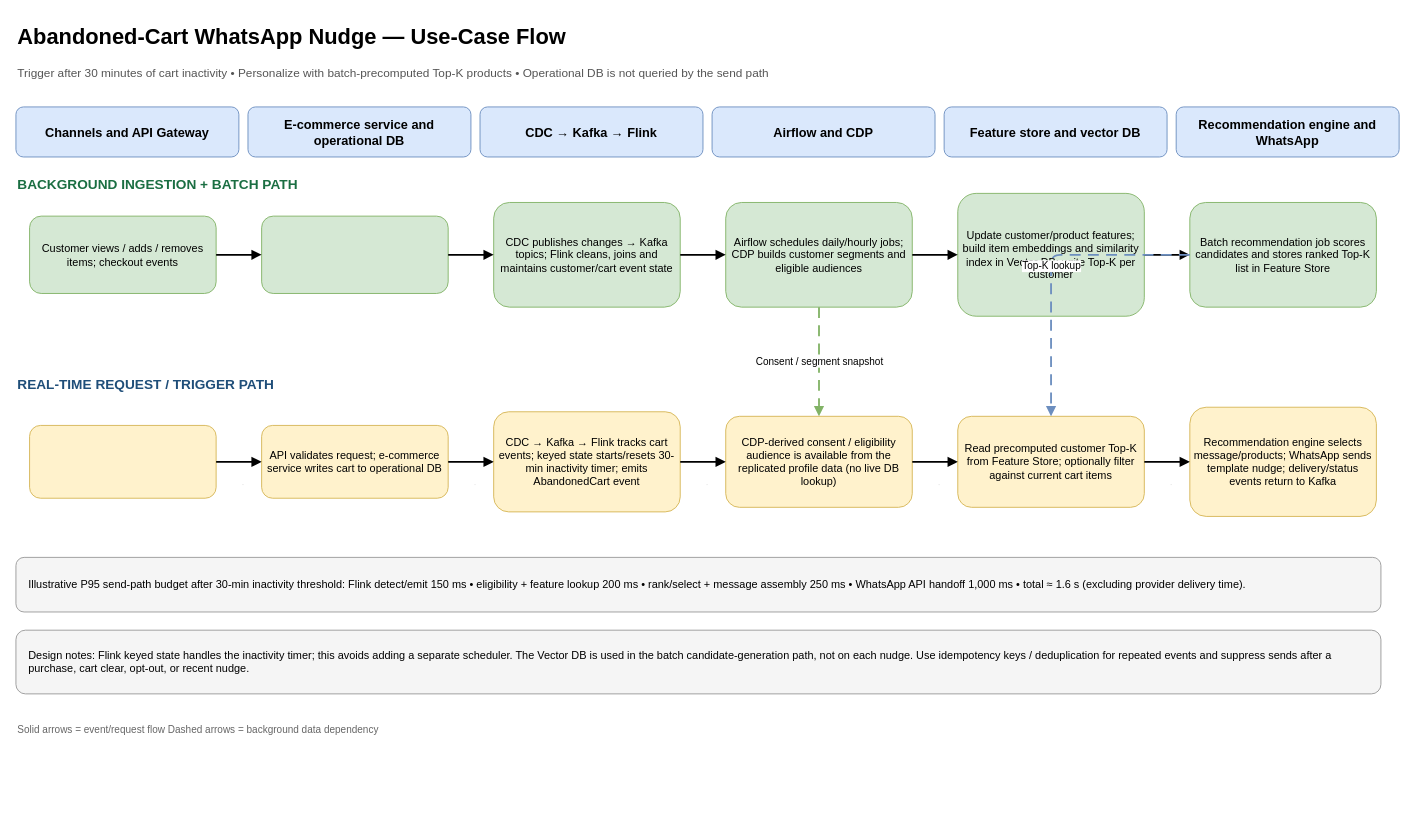
Image size: 1415x819. Some labels were removed from this diagram. Here are the shapes that lost their labels. From the top down, the centre of each, then its label:
(x=354, y=254): Persist cart, customer, product and consent state
(x=122, y=461): Customer adds item to cart; channel sends request
